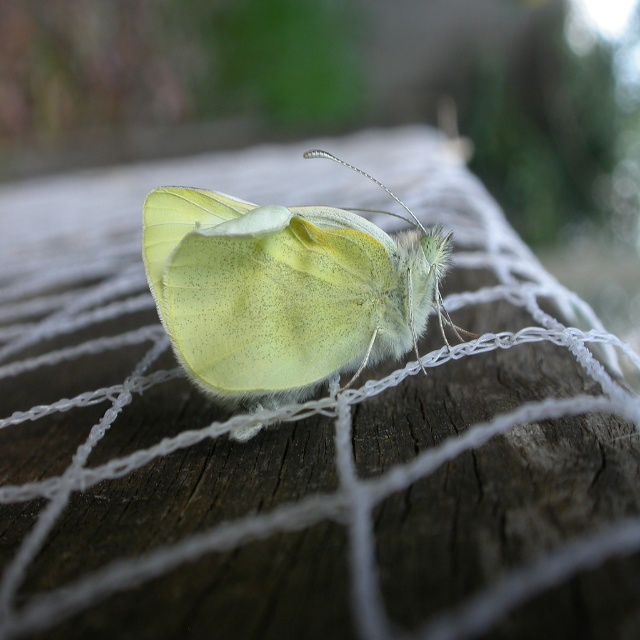Butterfly: (141, 156, 437, 423)
